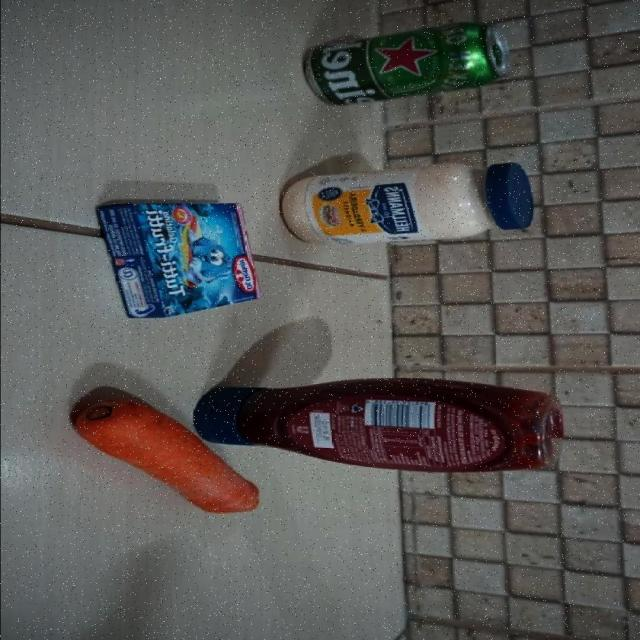BeerCan: (305, 22, 509, 108)
Carrot: (70, 399, 260, 514)
Gelatine: (97, 200, 263, 321)
Ketchup: (195, 377, 563, 473)
Mayonnaise: (280, 162, 531, 248)
